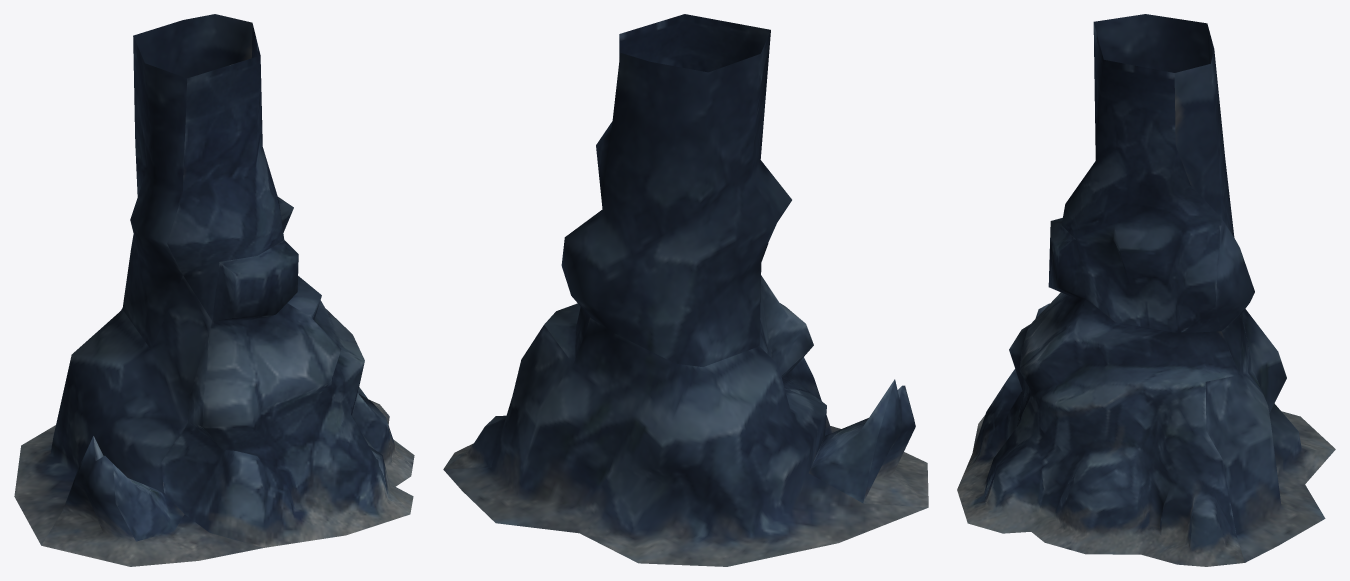
Rendered from Area_04_7.fbx.
3 views of the same model, side by side, from view 1: azimuth 30°, elevation 25°; view 2: azimuth 150°, elevation 25°; view 3: azimuth 270°, elevation 25° (orthographic). The views are drawn at different scales.
Visible parts, largest first — view 1: Area_04_7; view 2: Area_04_7; view 3: Area_04_7.
Part boxes in pixels (x1,y1,x2,y2): Area_04_7: (14,14,414,566); Area_04_7: (443,14,928,566); Area_04_7: (957,14,1335,566).
Size of the model in its own units: 2821 by 2896 by 2343.
